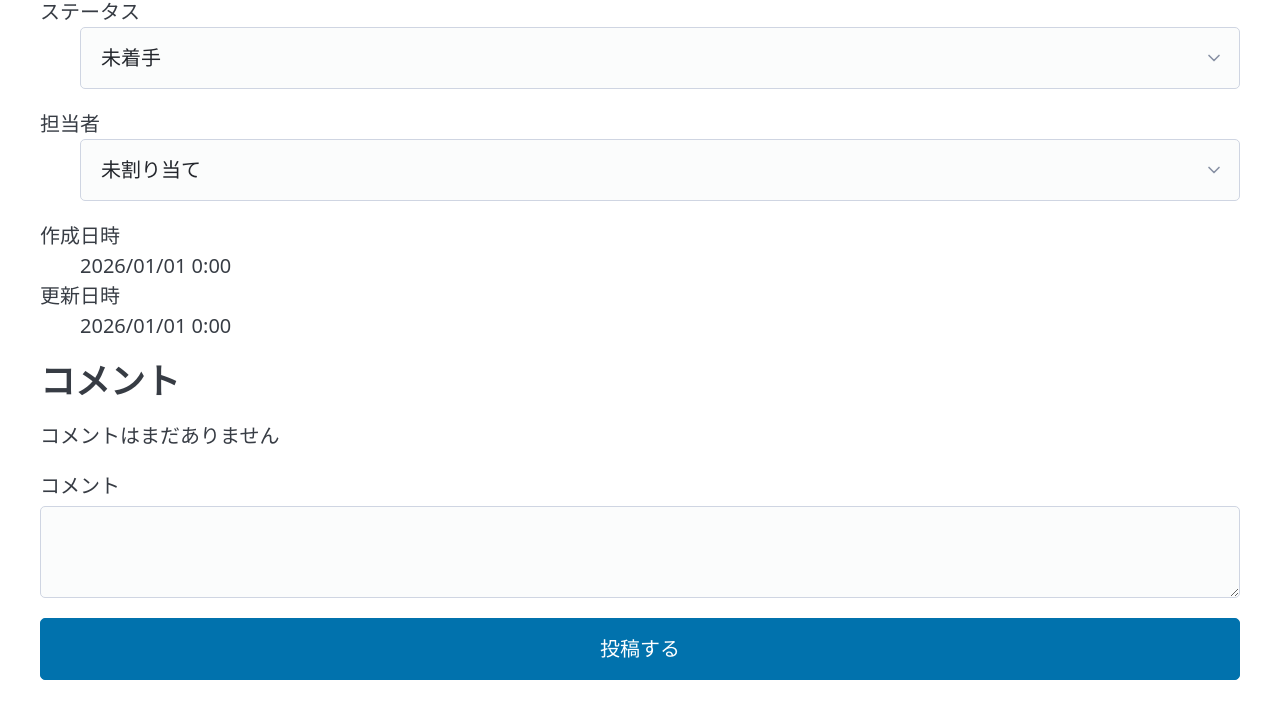
it: コメント投稿 › 投稿が 404 なら、見つからない旨を表示する
(page scrolled)
Expected: the form named "コメントを投稿" is shown, 40,471 -> 1240,700
Type "コメント" into the text box labelled "コメント" at (640, 552), box 40,506 -> 1240,598
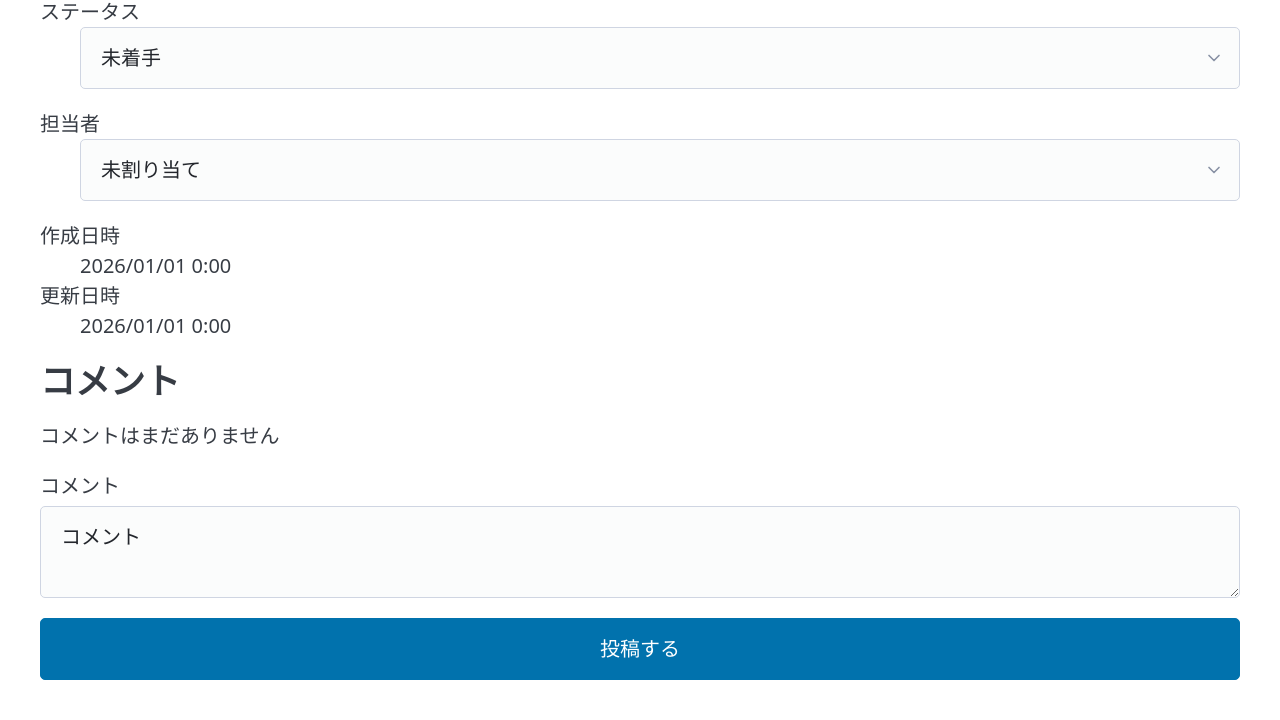
Click the button "投稿する" at (640, 649), box 40,618 -> 1240,680
(page scrolled)
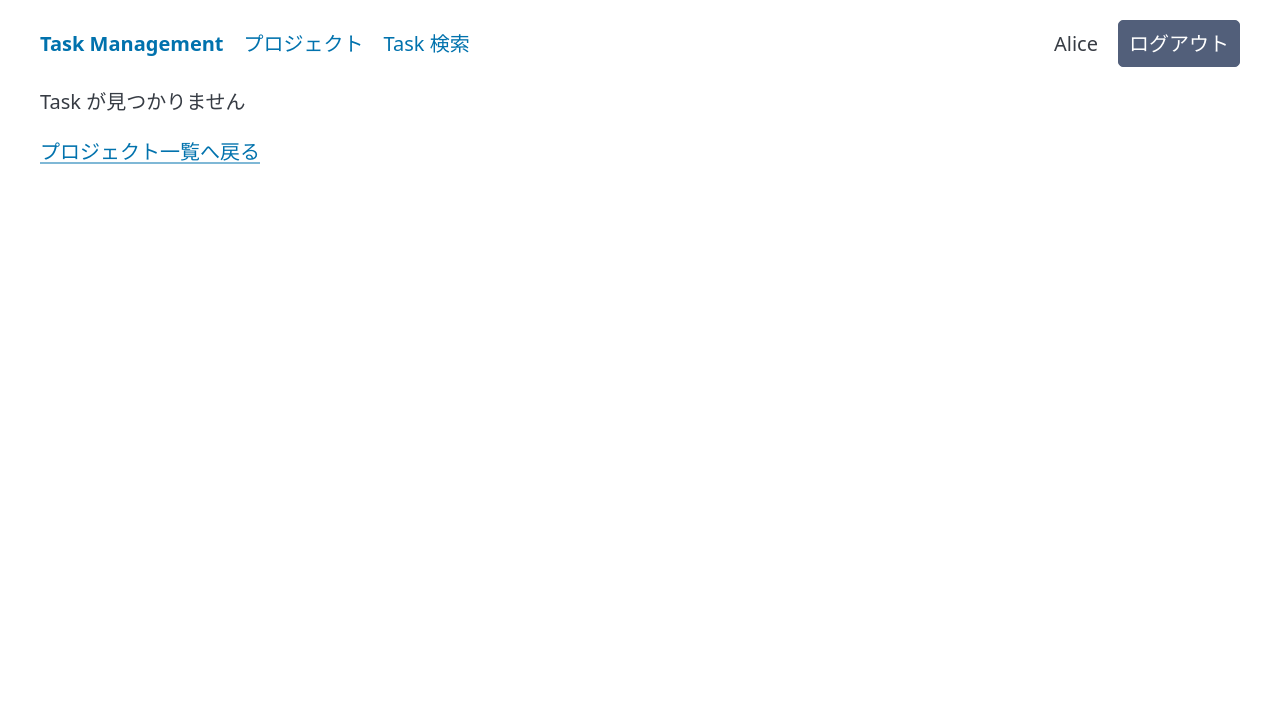
Expected: the text "Task が見つかりません" is shown, 40,88 -> 246,115
